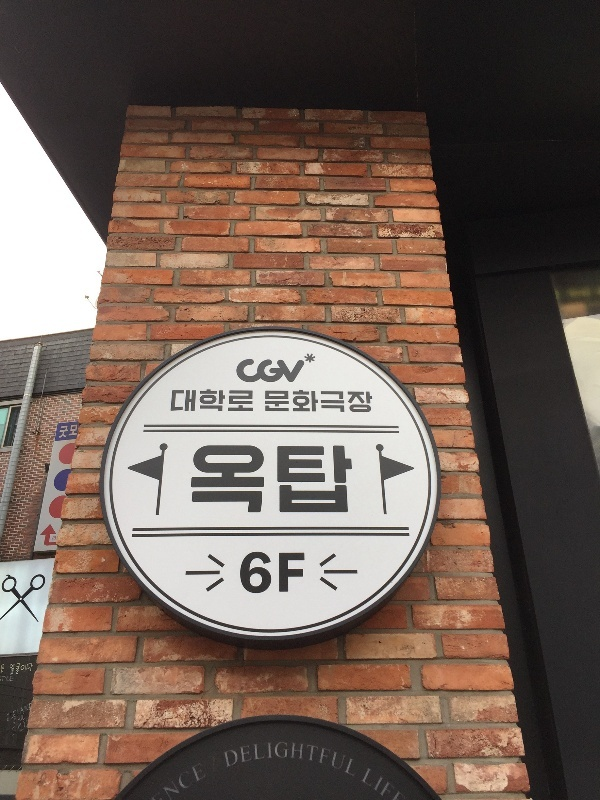text: (193, 439, 208, 526), (209, 439, 224, 526), (225, 439, 240, 526), (241, 439, 256, 526), (257, 439, 272, 526), (273, 439, 288, 526), (289, 439, 304, 526), (305, 439, 320, 526), (321, 439, 336, 526), (337, 439, 352, 526), (353, 439, 363, 526), (225, 735, 240, 789), (241, 735, 256, 789), (257, 735, 272, 789), (273, 735, 288, 789), (289, 735, 304, 789), (305, 735, 320, 789), (321, 735, 336, 789), (337, 735, 352, 789), (241, 551, 256, 601), (257, 551, 272, 601), (273, 551, 288, 601), (289, 551, 304, 601), (17, 699, 33, 743), (184, 439, 192, 526), (161, 756, 176, 800), (177, 756, 192, 800), (193, 756, 208, 800), (370, 763, 384, 800), (305, 551, 315, 601), (241, 353, 256, 386), (257, 353, 272, 386), (273, 353, 288, 386), (289, 353, 304, 386), (353, 735, 362, 789), (5, 699, 16, 743), (273, 387, 288, 419), (289, 387, 304, 419), (305, 387, 320, 419), (321, 387, 336, 419), (337, 387, 352, 419), (353, 387, 368, 419), (177, 388, 192, 418), (193, 388, 208, 418), (209, 388, 224, 418), (225, 388, 240, 418), (241, 388, 255, 418), (209, 752, 222, 781), (385, 763, 394, 800), (17, 659, 32, 680), (65, 422, 79, 442), (1, 661, 16, 679), (264, 387, 272, 419), (235, 551, 240, 601), (369, 387, 375, 419), (8, 659, 16, 680), (235, 353, 240, 386), (171, 388, 176, 418), (305, 353, 309, 386), (222, 735, 224, 789), (59, 422, 64, 442), (209, 756, 211, 800), (33, 659, 36, 680)
